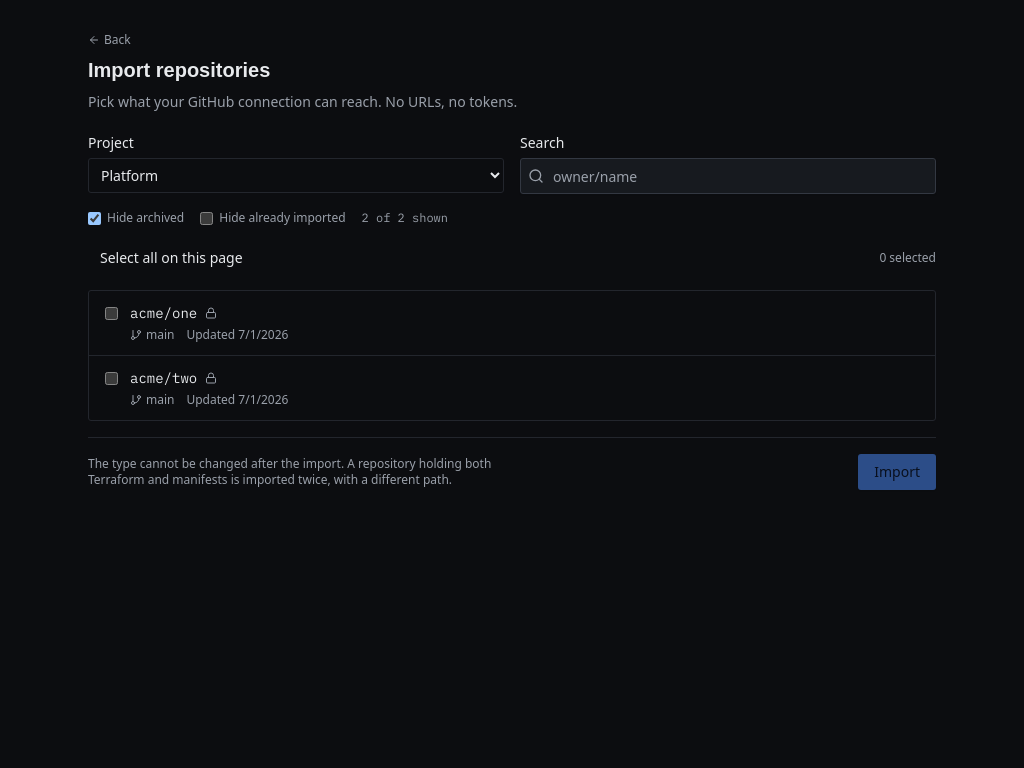
Test: reports a partial import as what it is, and retries only the failures
Click the checkbox named "Select acme/one".
click(112, 314)  # box 105,307 -> 118,320
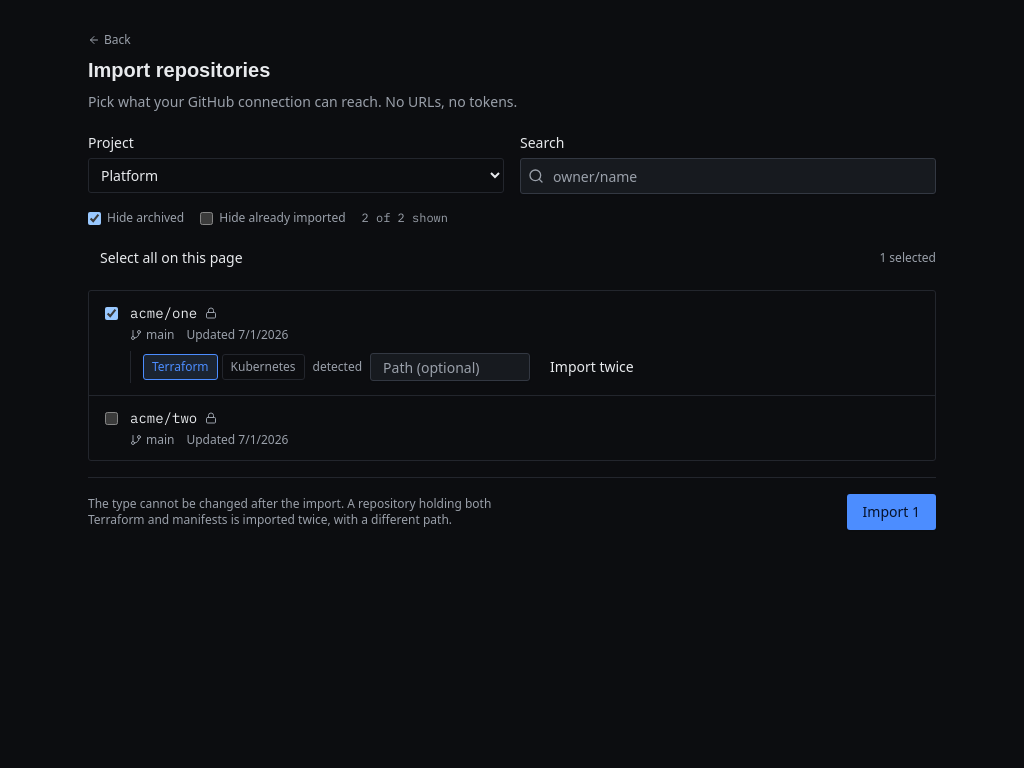
Click the checkbox named "Select acme/two".
click(112, 418)  # box 105,412 -> 118,425
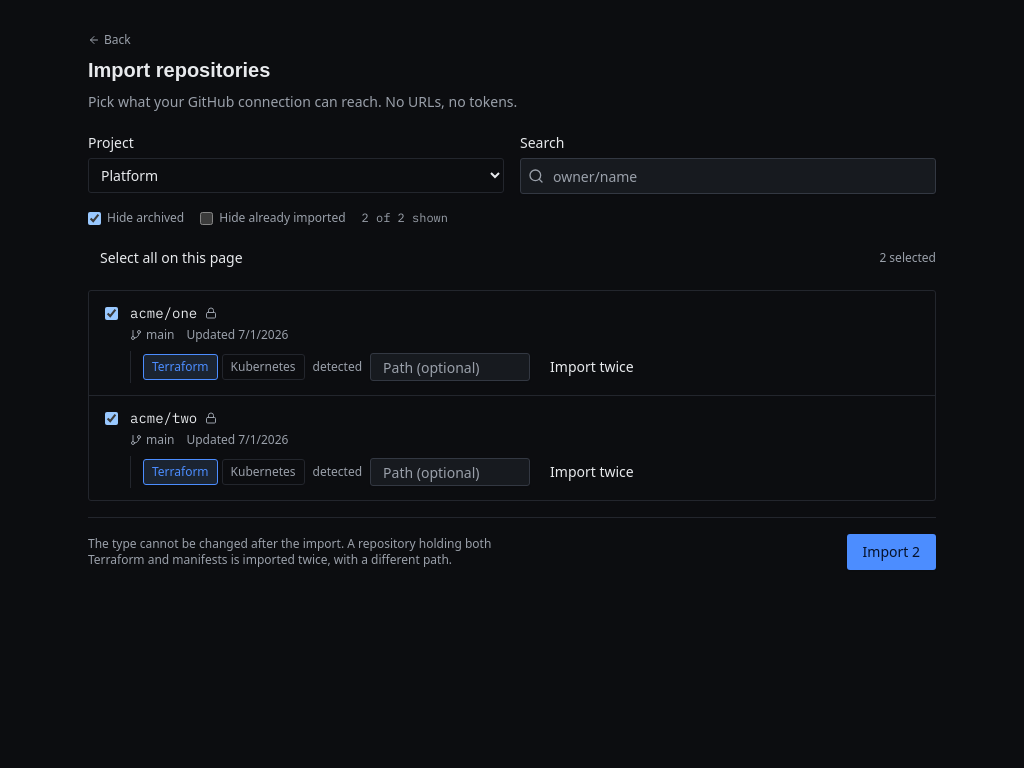
Expected: the button with test id "import-submit" is enabled
Click the button with test id "import-submit".
click(891, 552)  # box 847,534 -> 936,570
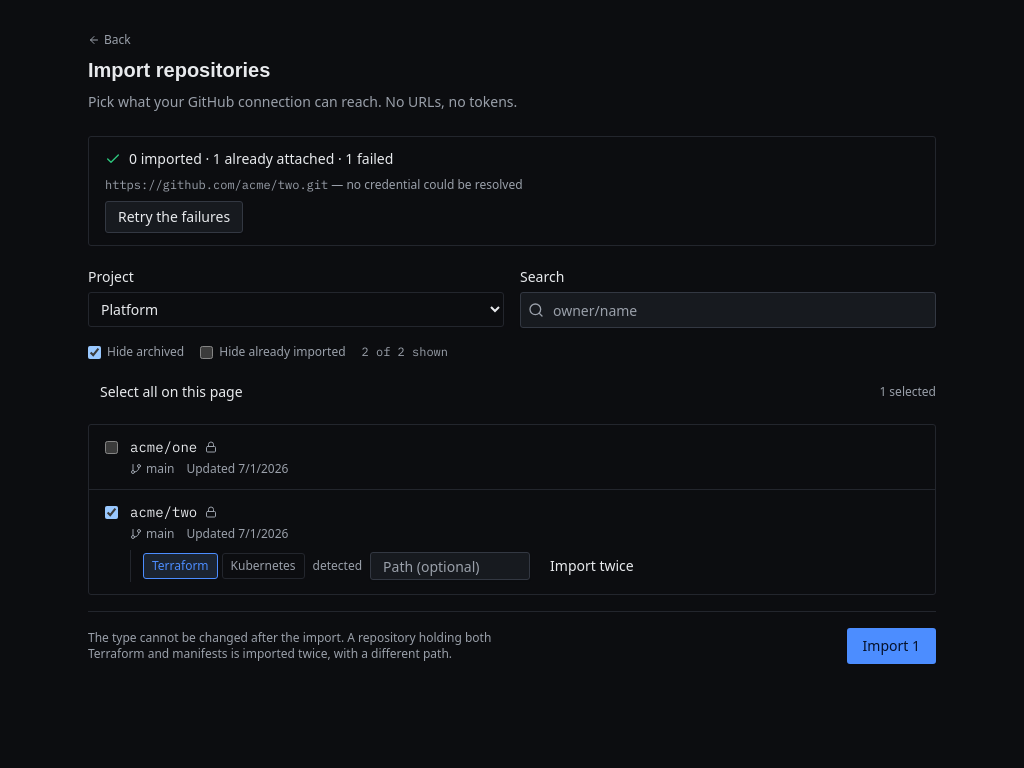
Expected: the text "0 imported · 1 already attached · 1 failed" is shown, 105,149 -> 393,168
Expected: the list item "no credential could be resolved" is shown, 346,176 -> 523,193
Expected: the text with test id "selection-count" reads "1 selected", 879,384 -> 936,400
